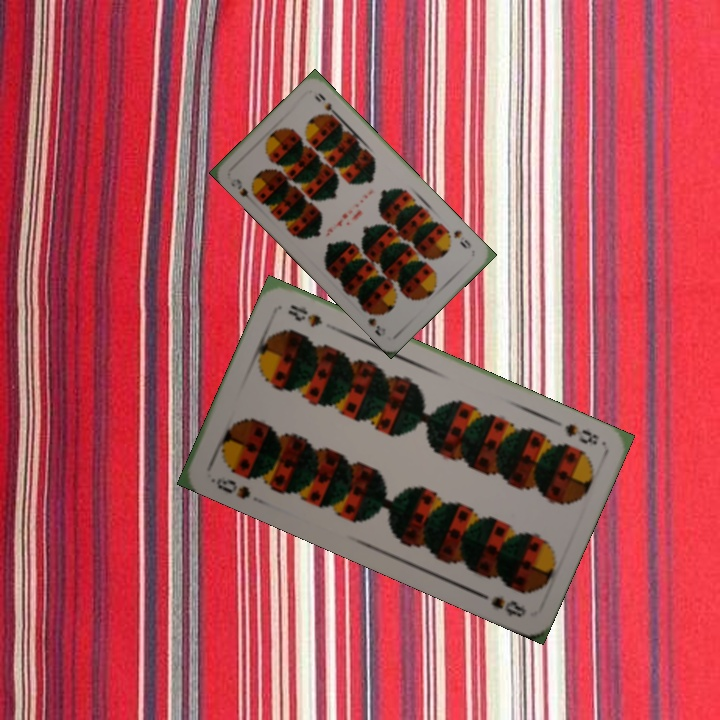S8: (206, 474, 253, 502), (561, 419, 602, 448)
S9: (227, 175, 260, 206), (449, 226, 474, 252)
